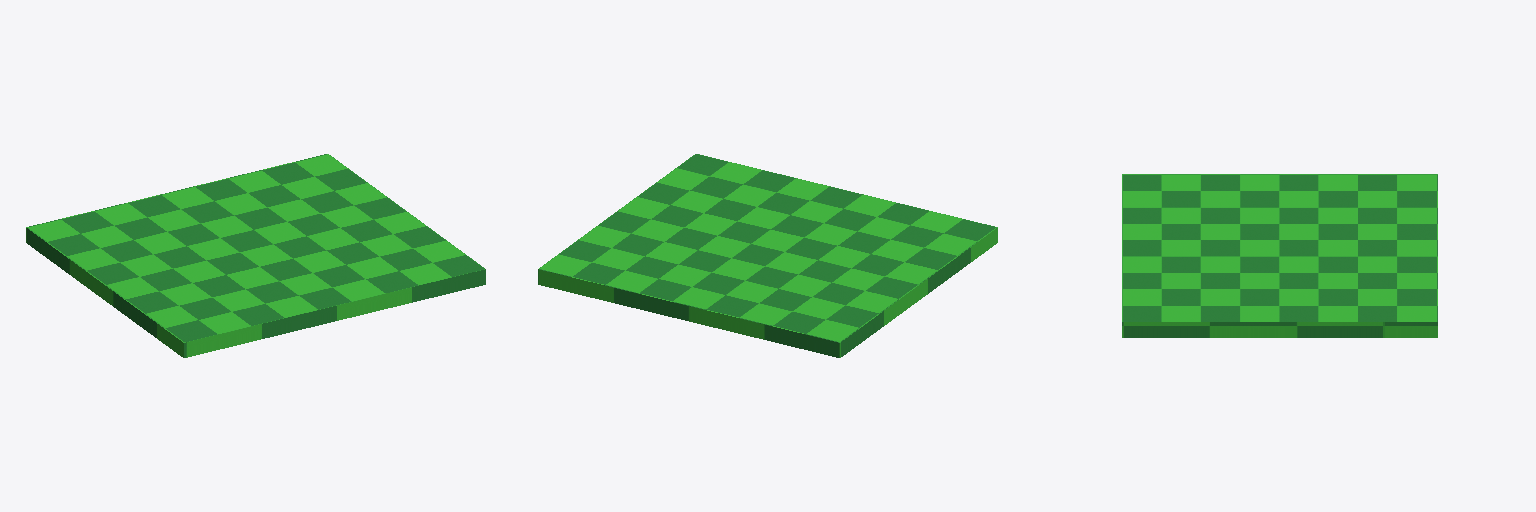
3 views of the same model, side by side, from view 1: azimuth 30°, elevation 25°; view 2: azimuth 150°, elevation 25°; view 3: azimuth 270°, elevation 25° (orthographic).
Visible parts, largest first — view 1: Cube_Cube.001; view 2: Cube_Cube.001; view 3: Cube_Cube.001.
Part boxes in pixels (bbox=[...]): Cube_Cube.001: bbox=[26, 154, 485, 357]; Cube_Cube.001: bbox=[538, 154, 997, 357]; Cube_Cube.001: bbox=[1122, 174, 1437, 337].
Bounding box in the file's own units: 15.42 × 0.7558 × 13.96.
1 materials, 1 textured.